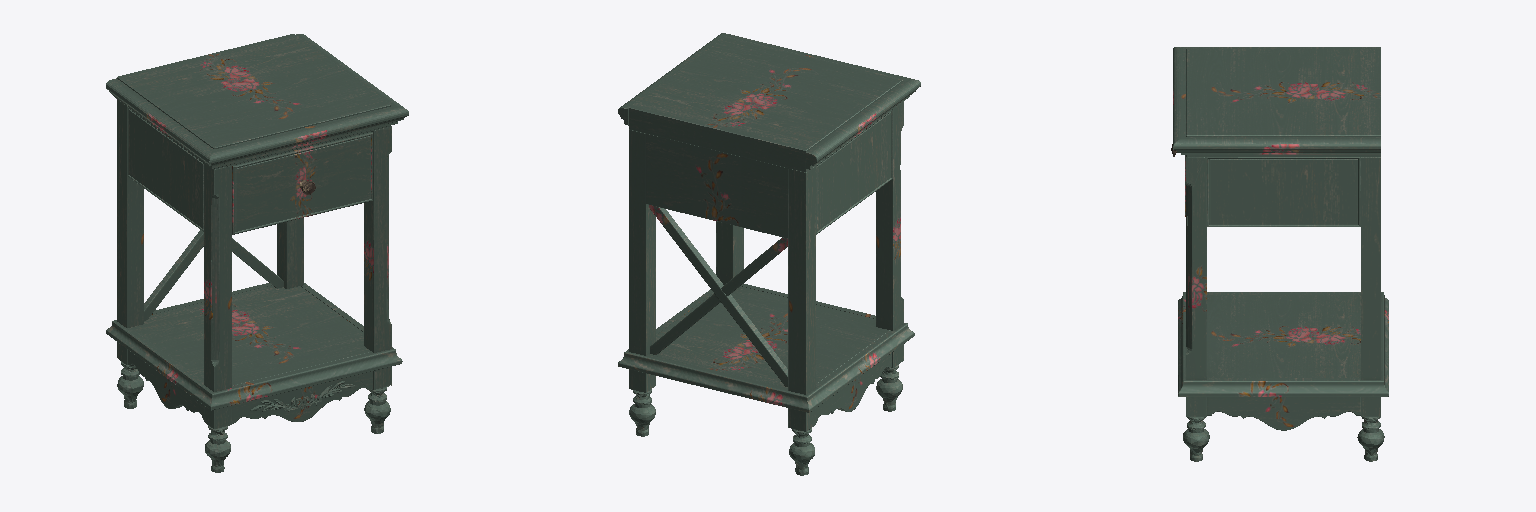
The picture shows the model from 3 angles: view 1: azimuth 30°, elevation 25°; view 2: azimuth 150°, elevation 25°; view 3: azimuth 270°, elevation 25°; orthographic projection.
Visible parts, largest first — view 1: glass_001, solid_003; view 2: glass_001; view 3: glass_001.
Boxes of the visible parts, x1=… form: glass_001: x1=106, y1=34, x2=408, y2=472; solid_003: x1=250, y1=381, x2=354, y2=411; glass_001: x1=618, y1=33, x2=920, y2=475; glass_001: x1=1173, y1=47, x2=1388, y2=461.
Size of the model in its own units: 0.4495 by 0.7049 by 0.4244.
1 materials, 1 textured.